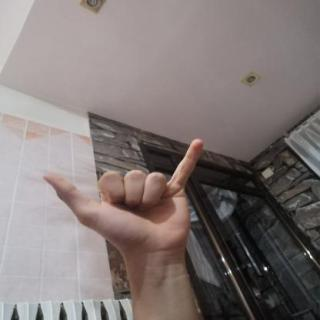YA: (32, 132, 220, 263)
